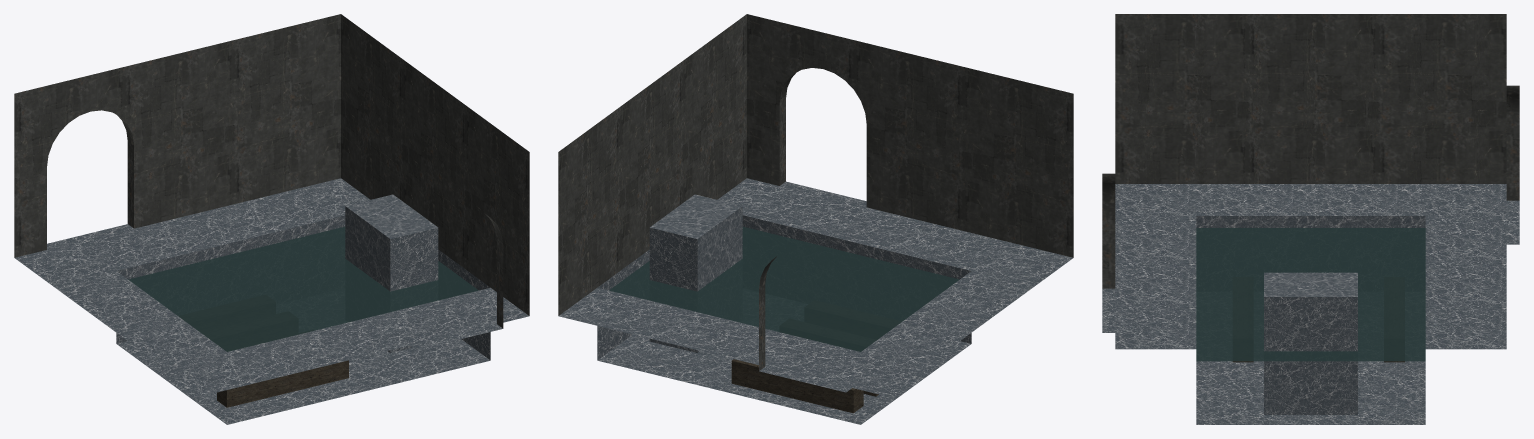
The model's file is drowned-chapel.ea564e28.gltf.
The picture shows the model from 3 angles, left to right: view 1: azimuth 30°, elevation 25°; view 2: azimuth 150°, elevation 25°; view 3: azimuth 270°, elevation 25°; orthographic projection. The views are drawn at different scales.
Parts seen in each view (by area): view 1: drowned-chapel-mesh, drowned-chapel-props; view 2: drowned-chapel-mesh, drowned-chapel-props; view 3: drowned-chapel-mesh, drowned-chapel-props.
Boxes of the visible parts, x1,y1,x2,y2 form: drowned-chapel-mesh: [14, 14, 529, 424]; drowned-chapel-props: [128, 226, 478, 407]; drowned-chapel-mesh: [558, 14, 1073, 424]; drowned-chapel-props: [609, 226, 959, 413]; drowned-chapel-mesh: [1102, 14, 1519, 424]; drowned-chapel-props: [1196, 228, 1425, 362].
Bounding box in the file's own units: 7.5 × 5.2 × 8.
Materials: 4 (3 with a texture image).
